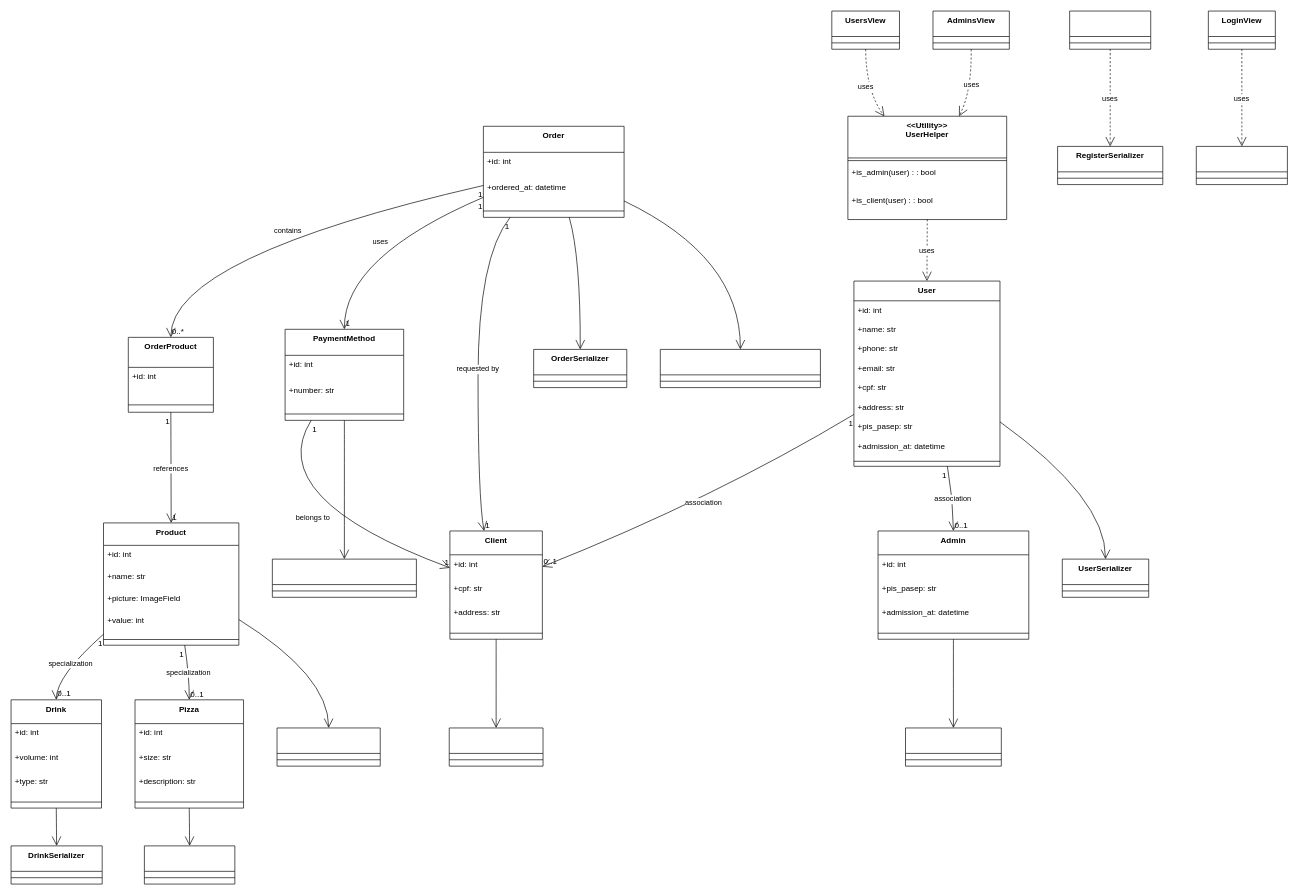
Some shapes in this 1298 by 895 pixel diagram are drawn without their labels. Here are the shapes that lost their labels. From the top down, the centre of each, then its label:
At (x=1110, y=29): "RegisterView".
At (x=1241, y=165): "LoginSerializer".
At (x=740, y=368): "OrderWithProductsSerializer".
At (x=344, y=577): "PaymentMethodSerializer".
At (x=328, y=746): "ProductSerializer".
At (x=496, y=746): "ClientSerializer".
At (x=953, y=746): "AdminSerializer".
At (x=189, y=864): "PizzaSerializer".
